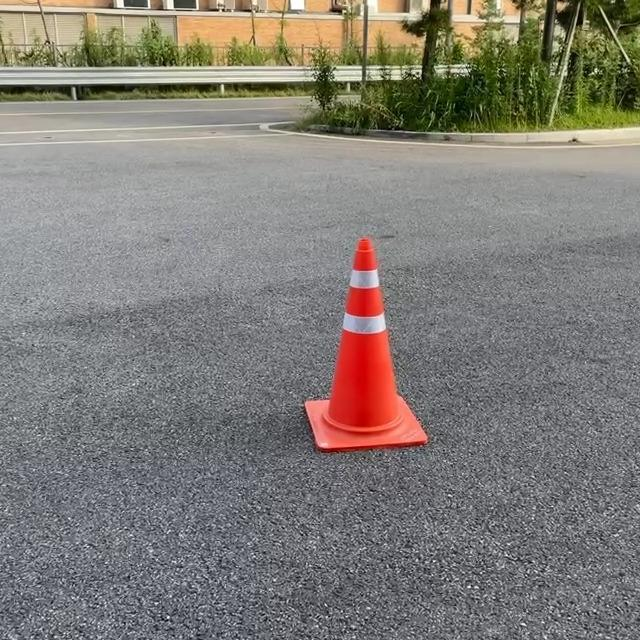fallen_object: (317, 216, 435, 458)
